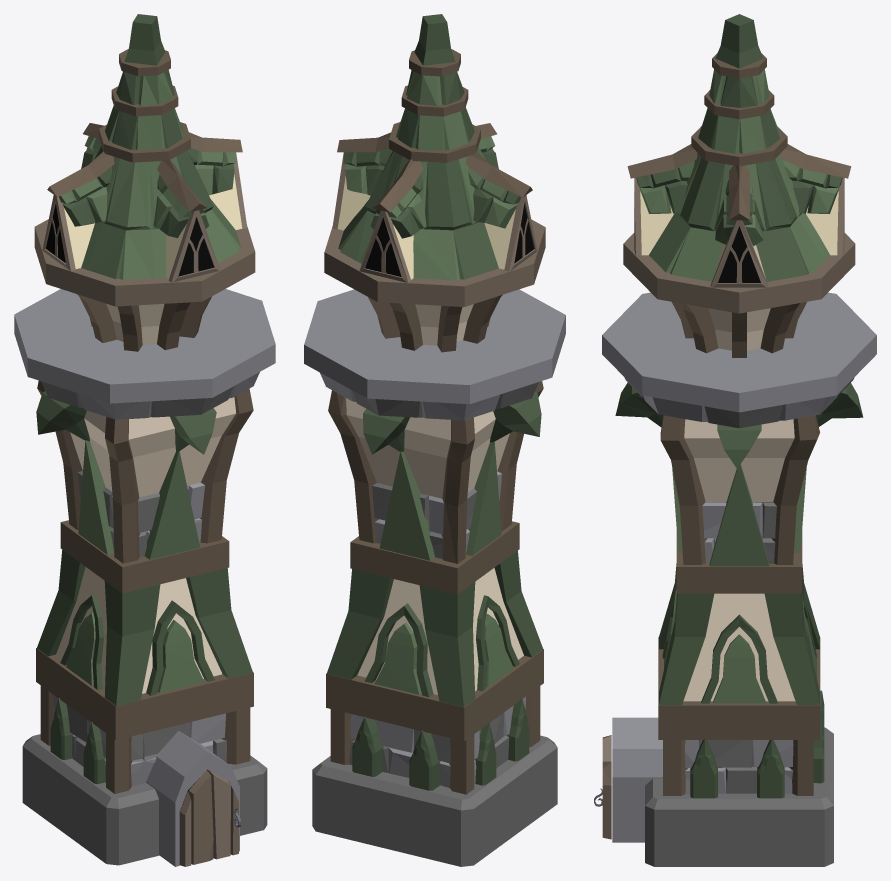
The model's file is Wizard_tower_LVL_4.fbx.
3 renders of one model, left to right at view 1: azimuth 30°, elevation 25°; view 2: azimuth 150°, elevation 25°; view 3: azimuth 270°, elevation 25°, orthographic.
Visible parts, largest first — view 1: Wizard_tower_LVL_4; view 2: Wizard_tower_LVL_4; view 3: Wizard_tower_LVL_4.
Part boxes in pixels (x1,y1,x2,y2): Wizard_tower_LVL_4: (14,14,275,866); Wizard_tower_LVL_4: (304,14,565,866); Wizard_tower_LVL_4: (594,14,876,866).
Size of the model in its own units: 552 by 1788 by 568.
